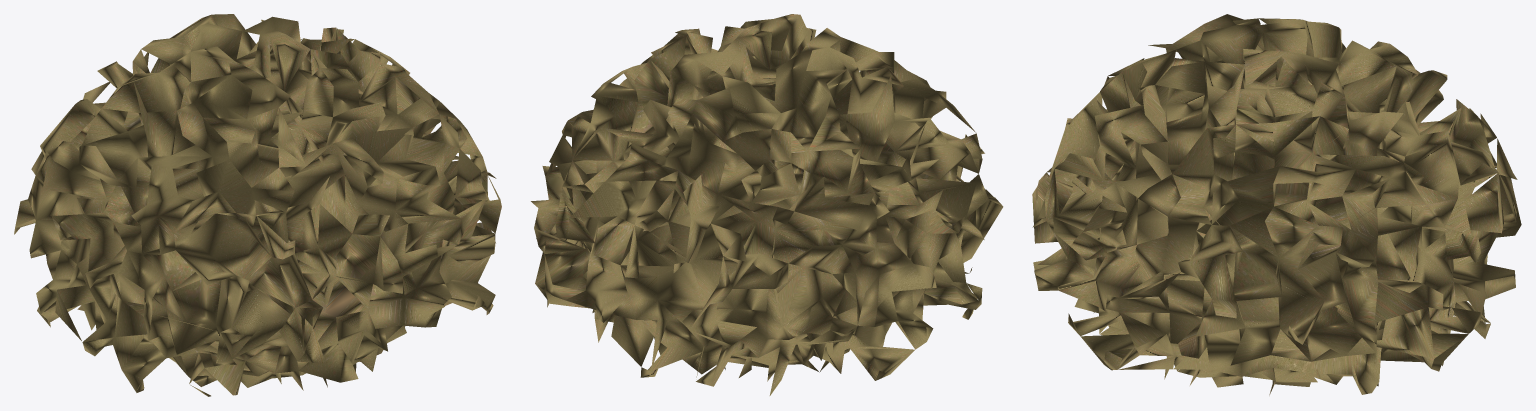
The model's file is links_gorse.ff3e35f0.glb.
3 views of the same model, side by side, from view 1: azimuth 30°, elevation 25°; view 2: azimuth 150°, elevation 25°; view 3: azimuth 270°, elevation 25° (orthographic). The views are drawn at different scales.
Size of the model in its own units: 1.84 by 1.32 by 1.84.
Materials: 1 (1 with a texture image).
